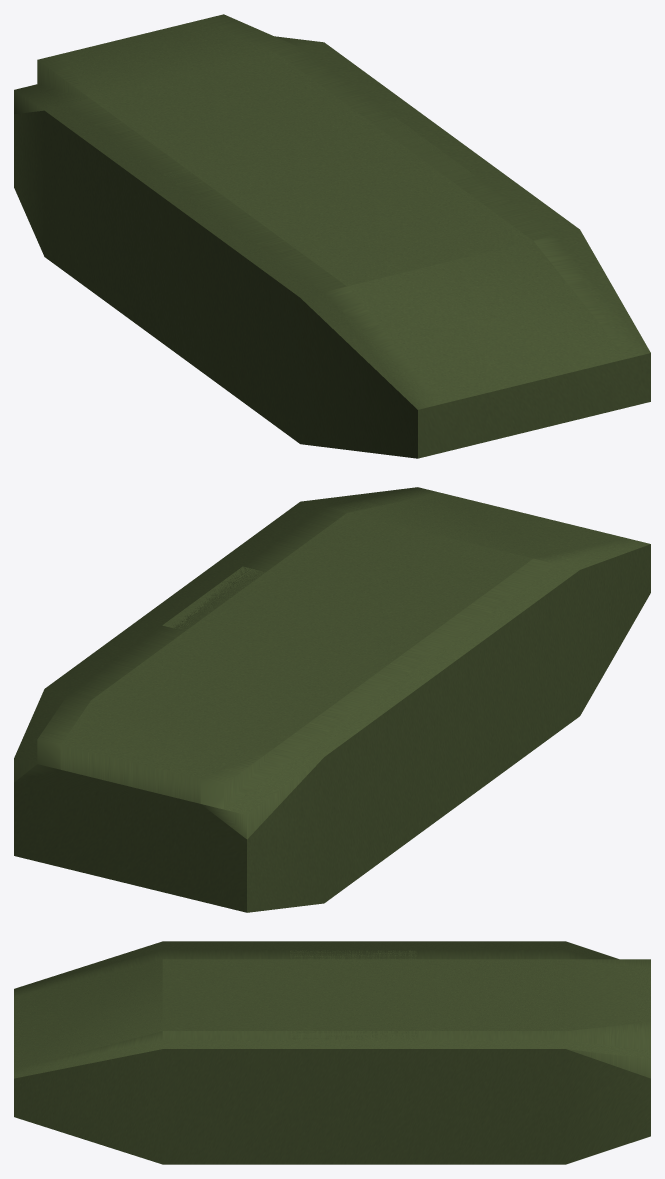
3 views of the same model, one above another, from view 1: azimuth 30°, elevation 25°; view 2: azimuth 150°, elevation 25°; view 3: azimuth 270°, elevation 25° (orthographic). The views are drawn at different scales.
Bounding box in the file's own units: 2.88 × 1.44 × 7.2.
Materials: 1 (1 with a texture image).
